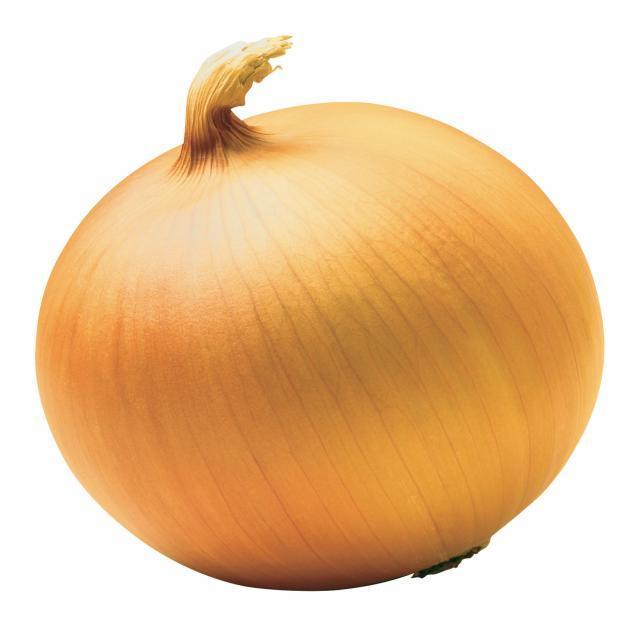onion: (31, 40, 608, 593)
